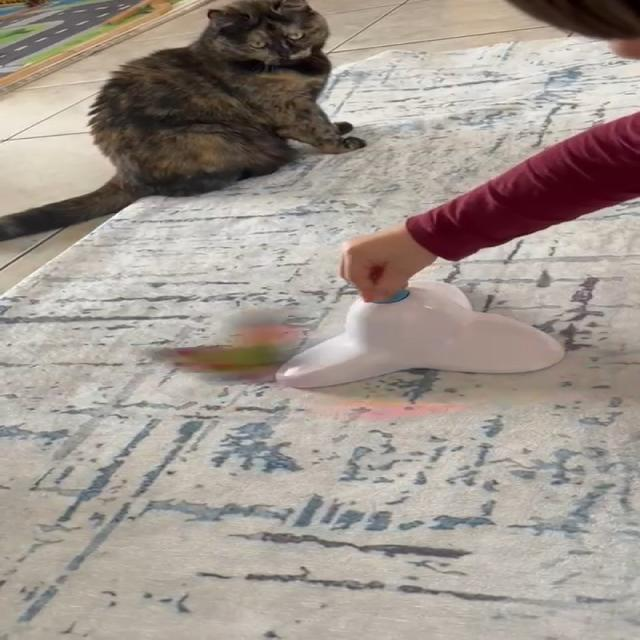authorized: (0, 0, 365, 242)
